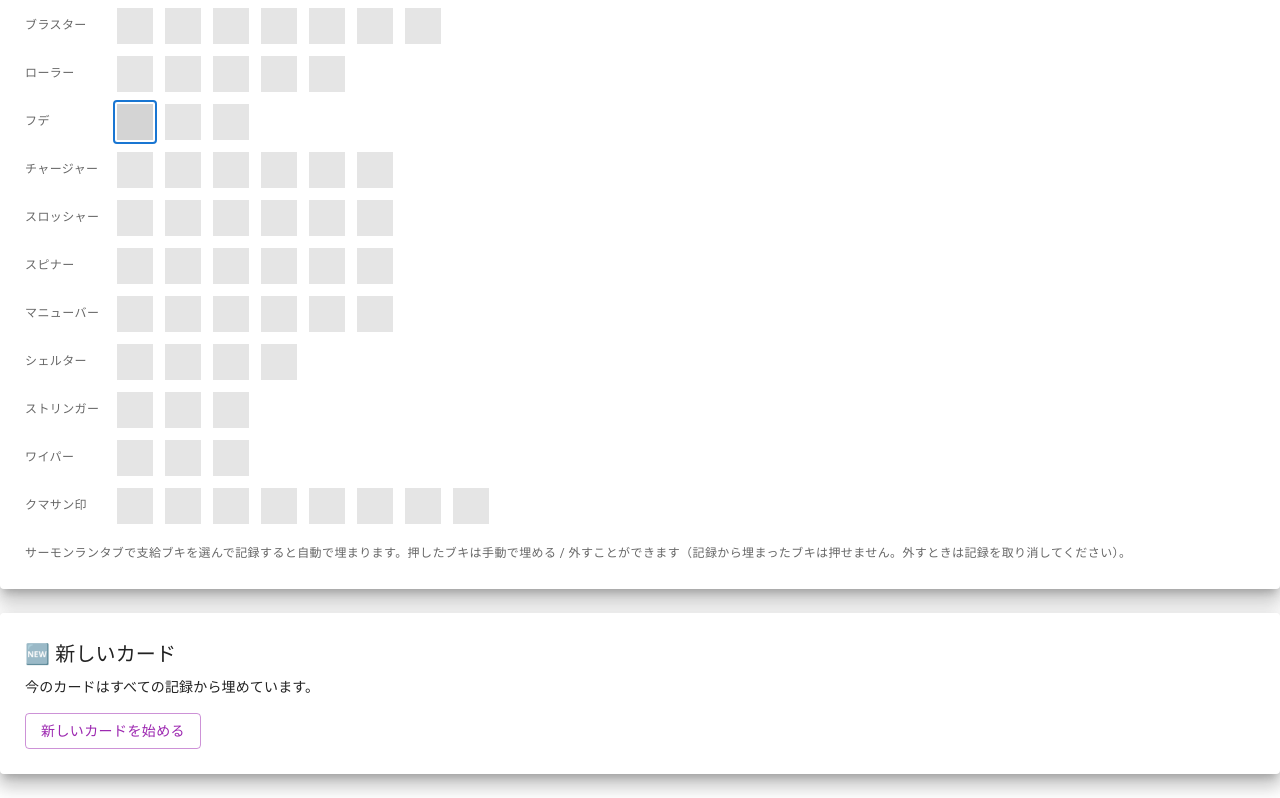
Scenario: WeaponCardPanel › starts a new card after confirming
(page scrolled)
Click the button "新しいカードを始める" at [113, 731], box [25,713,201,749]
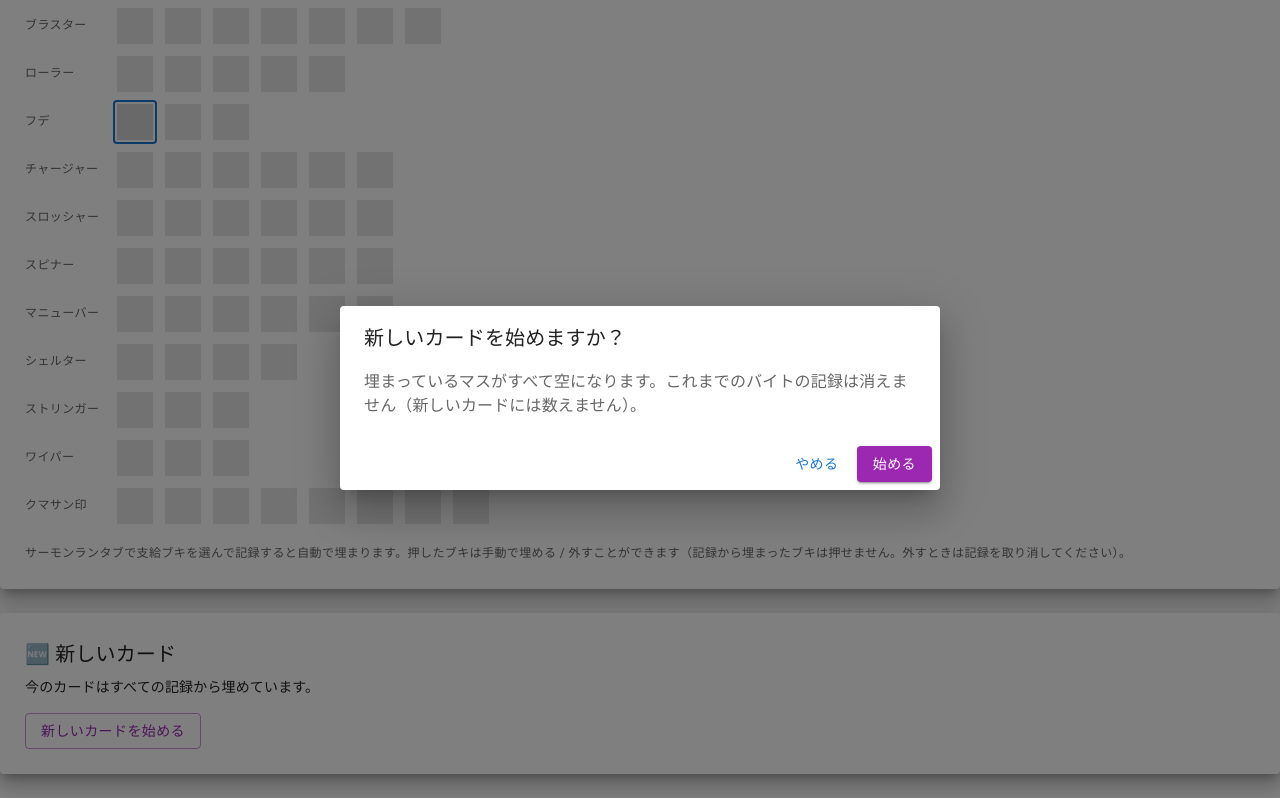
Click the button "やめる" at [817, 464], box [785,446,849,482]
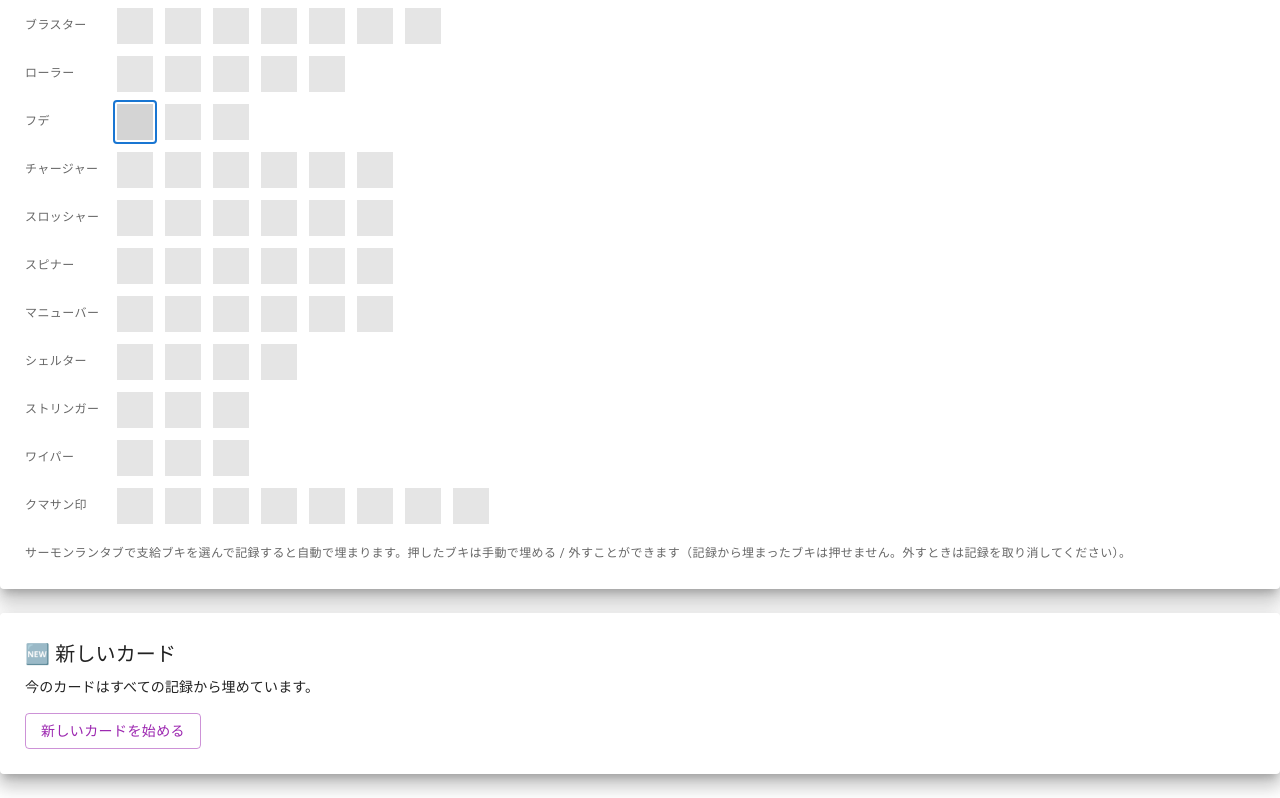
Expected: the dialog is gone
Click the button "新しいカードを始める" at [113, 731], box [25,713,201,749]
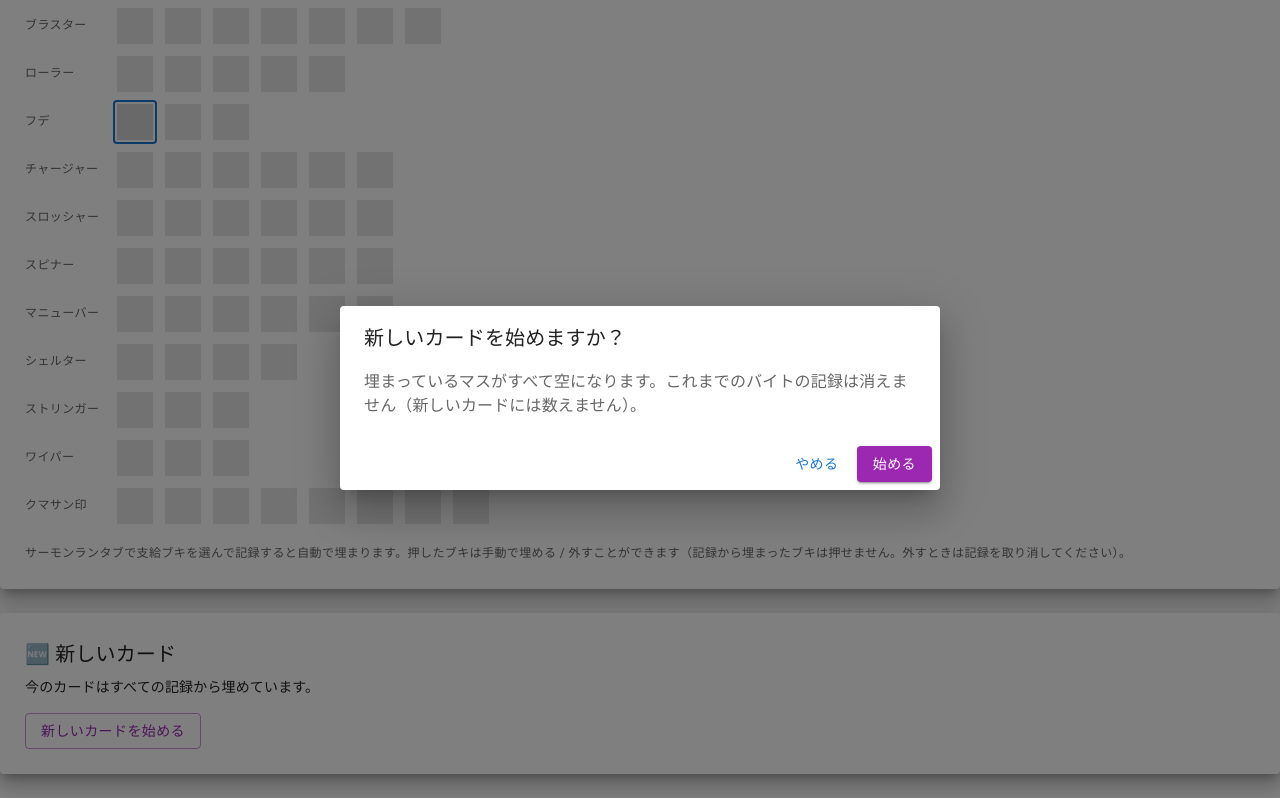
Click the button "始める" at [894, 464], box [857,446,932,482]
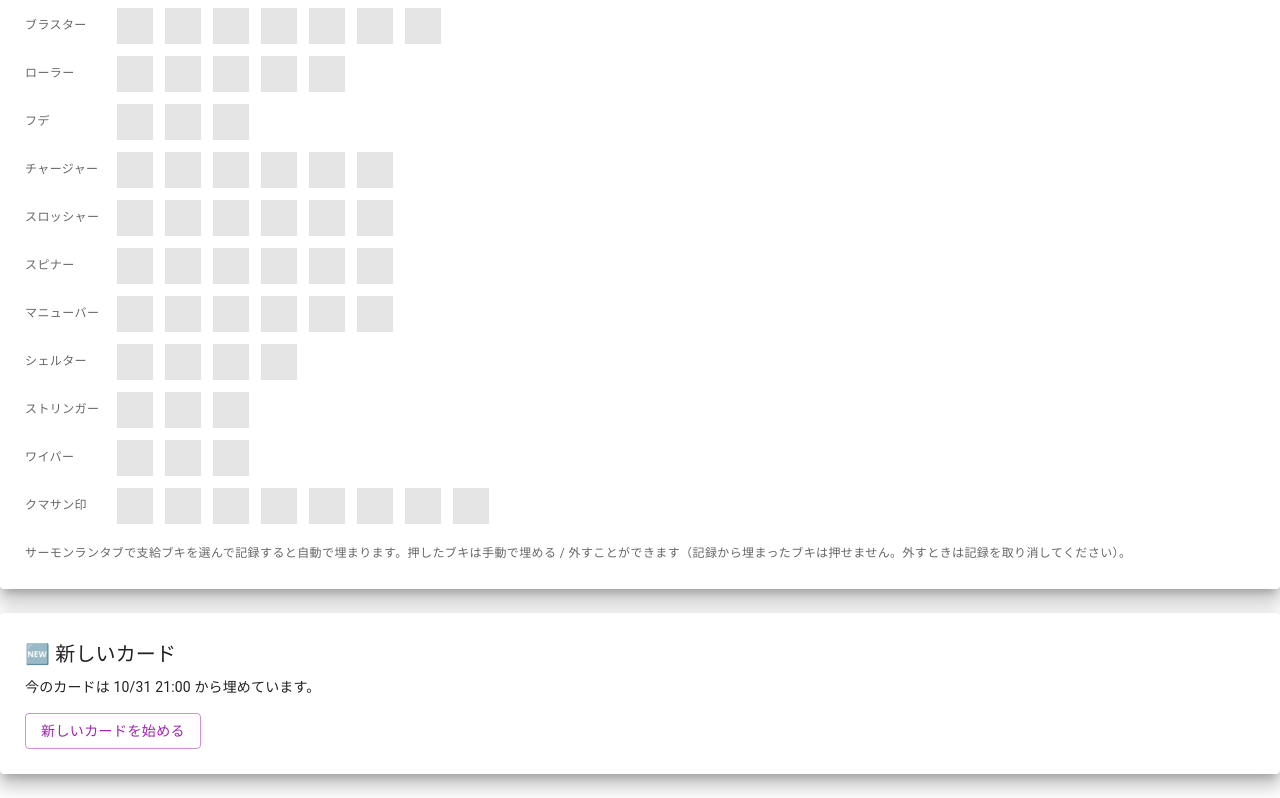
Expected: the text "今のカードは 10/31 21:00 から埋めています。" is shown, [25,679,320,695]
